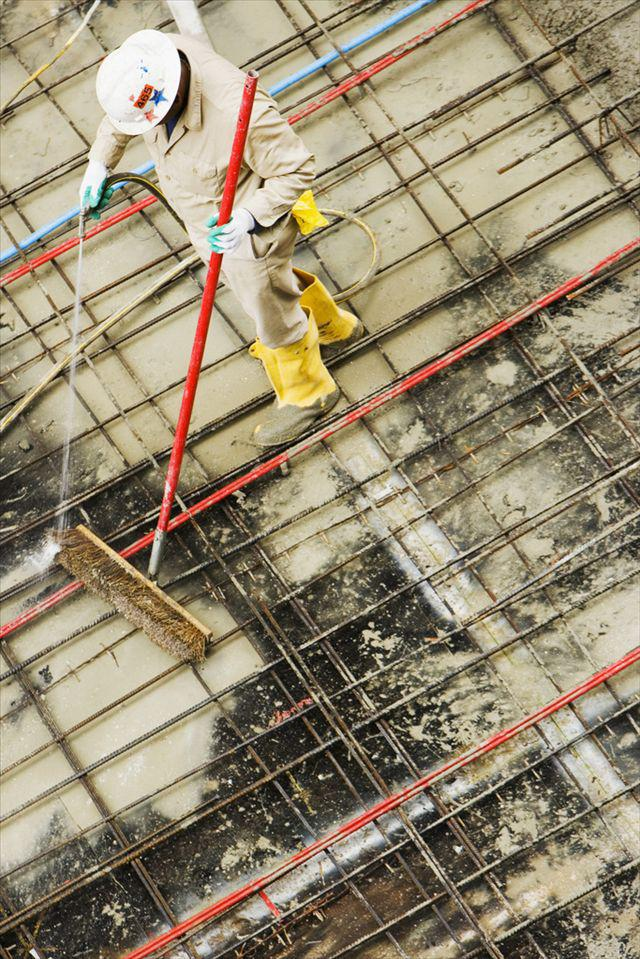helmet: (91, 28, 196, 137)
